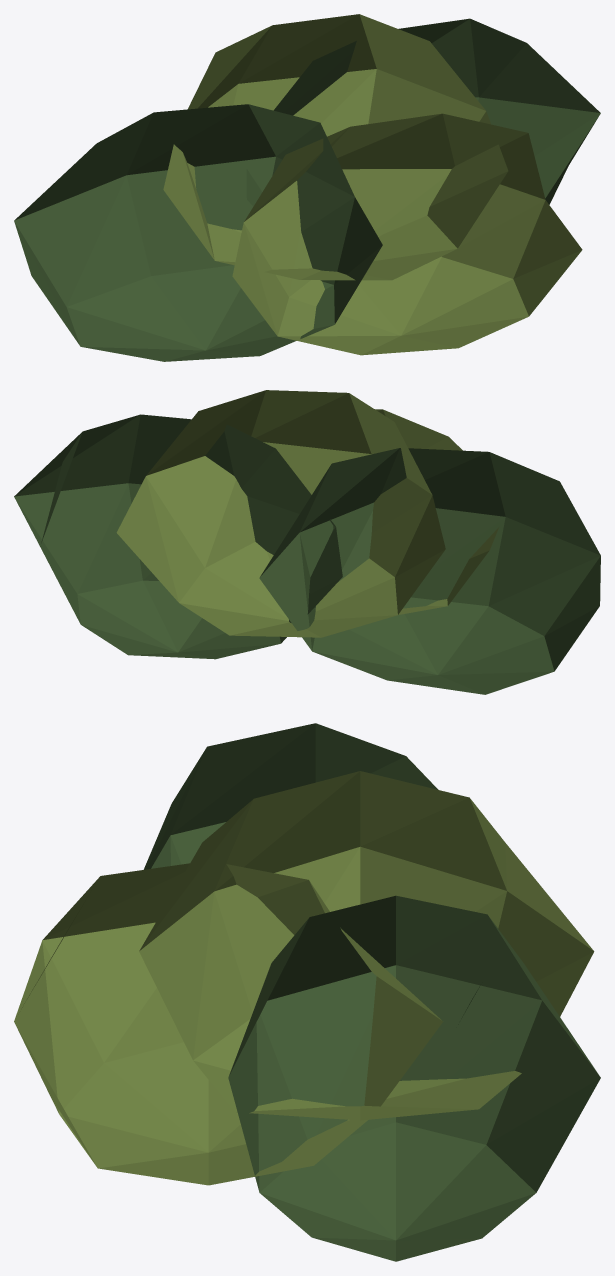
File: vegetation-mountain-bush-02.glb
3 renders of one model, top to bottom at view 1: azimuth 30°, elevation 25°; view 2: azimuth 150°, elevation 25°; view 3: azimuth 270°, elevation 25°, orthographic. The views are drawn at different scales.
Parts seen in each view (by area): view 1: vegetation-mountain-bush-02; view 2: vegetation-mountain-bush-02; view 3: vegetation-mountain-bush-02.
Boxes of the visible parts, x1,y1,x2,y2 form: vegetation-mountain-bush-02: (14, 14, 600, 361); vegetation-mountain-bush-02: (14, 390, 600, 694); vegetation-mountain-bush-02: (14, 723, 600, 1261).
Bounding box in the file's own units: 2.02 × 0.9233 × 1.32.
